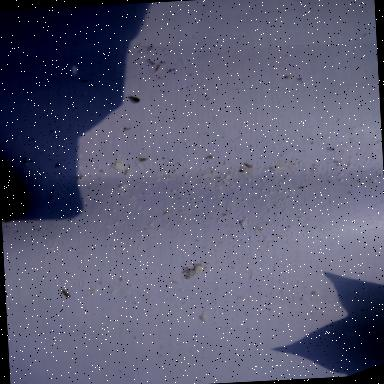pbw: (60, 288, 70, 298), (137, 156, 149, 162), (243, 162, 253, 168)
